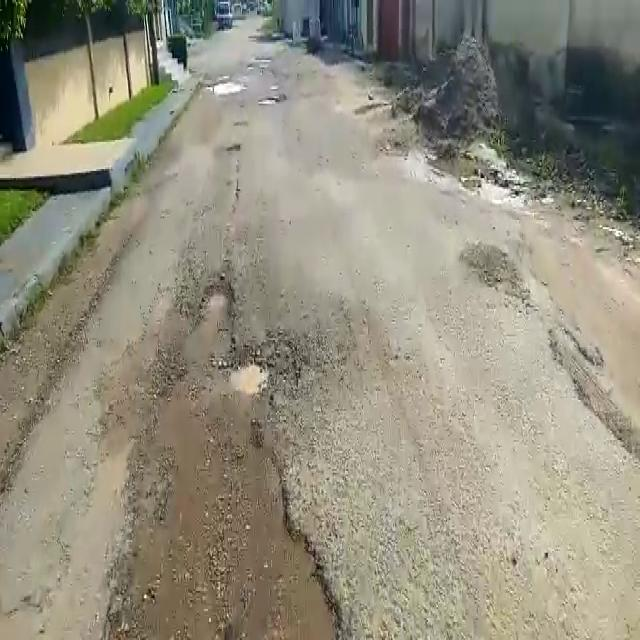Pothole: (232, 328, 317, 395), (201, 278, 232, 320), (204, 78, 249, 95)
